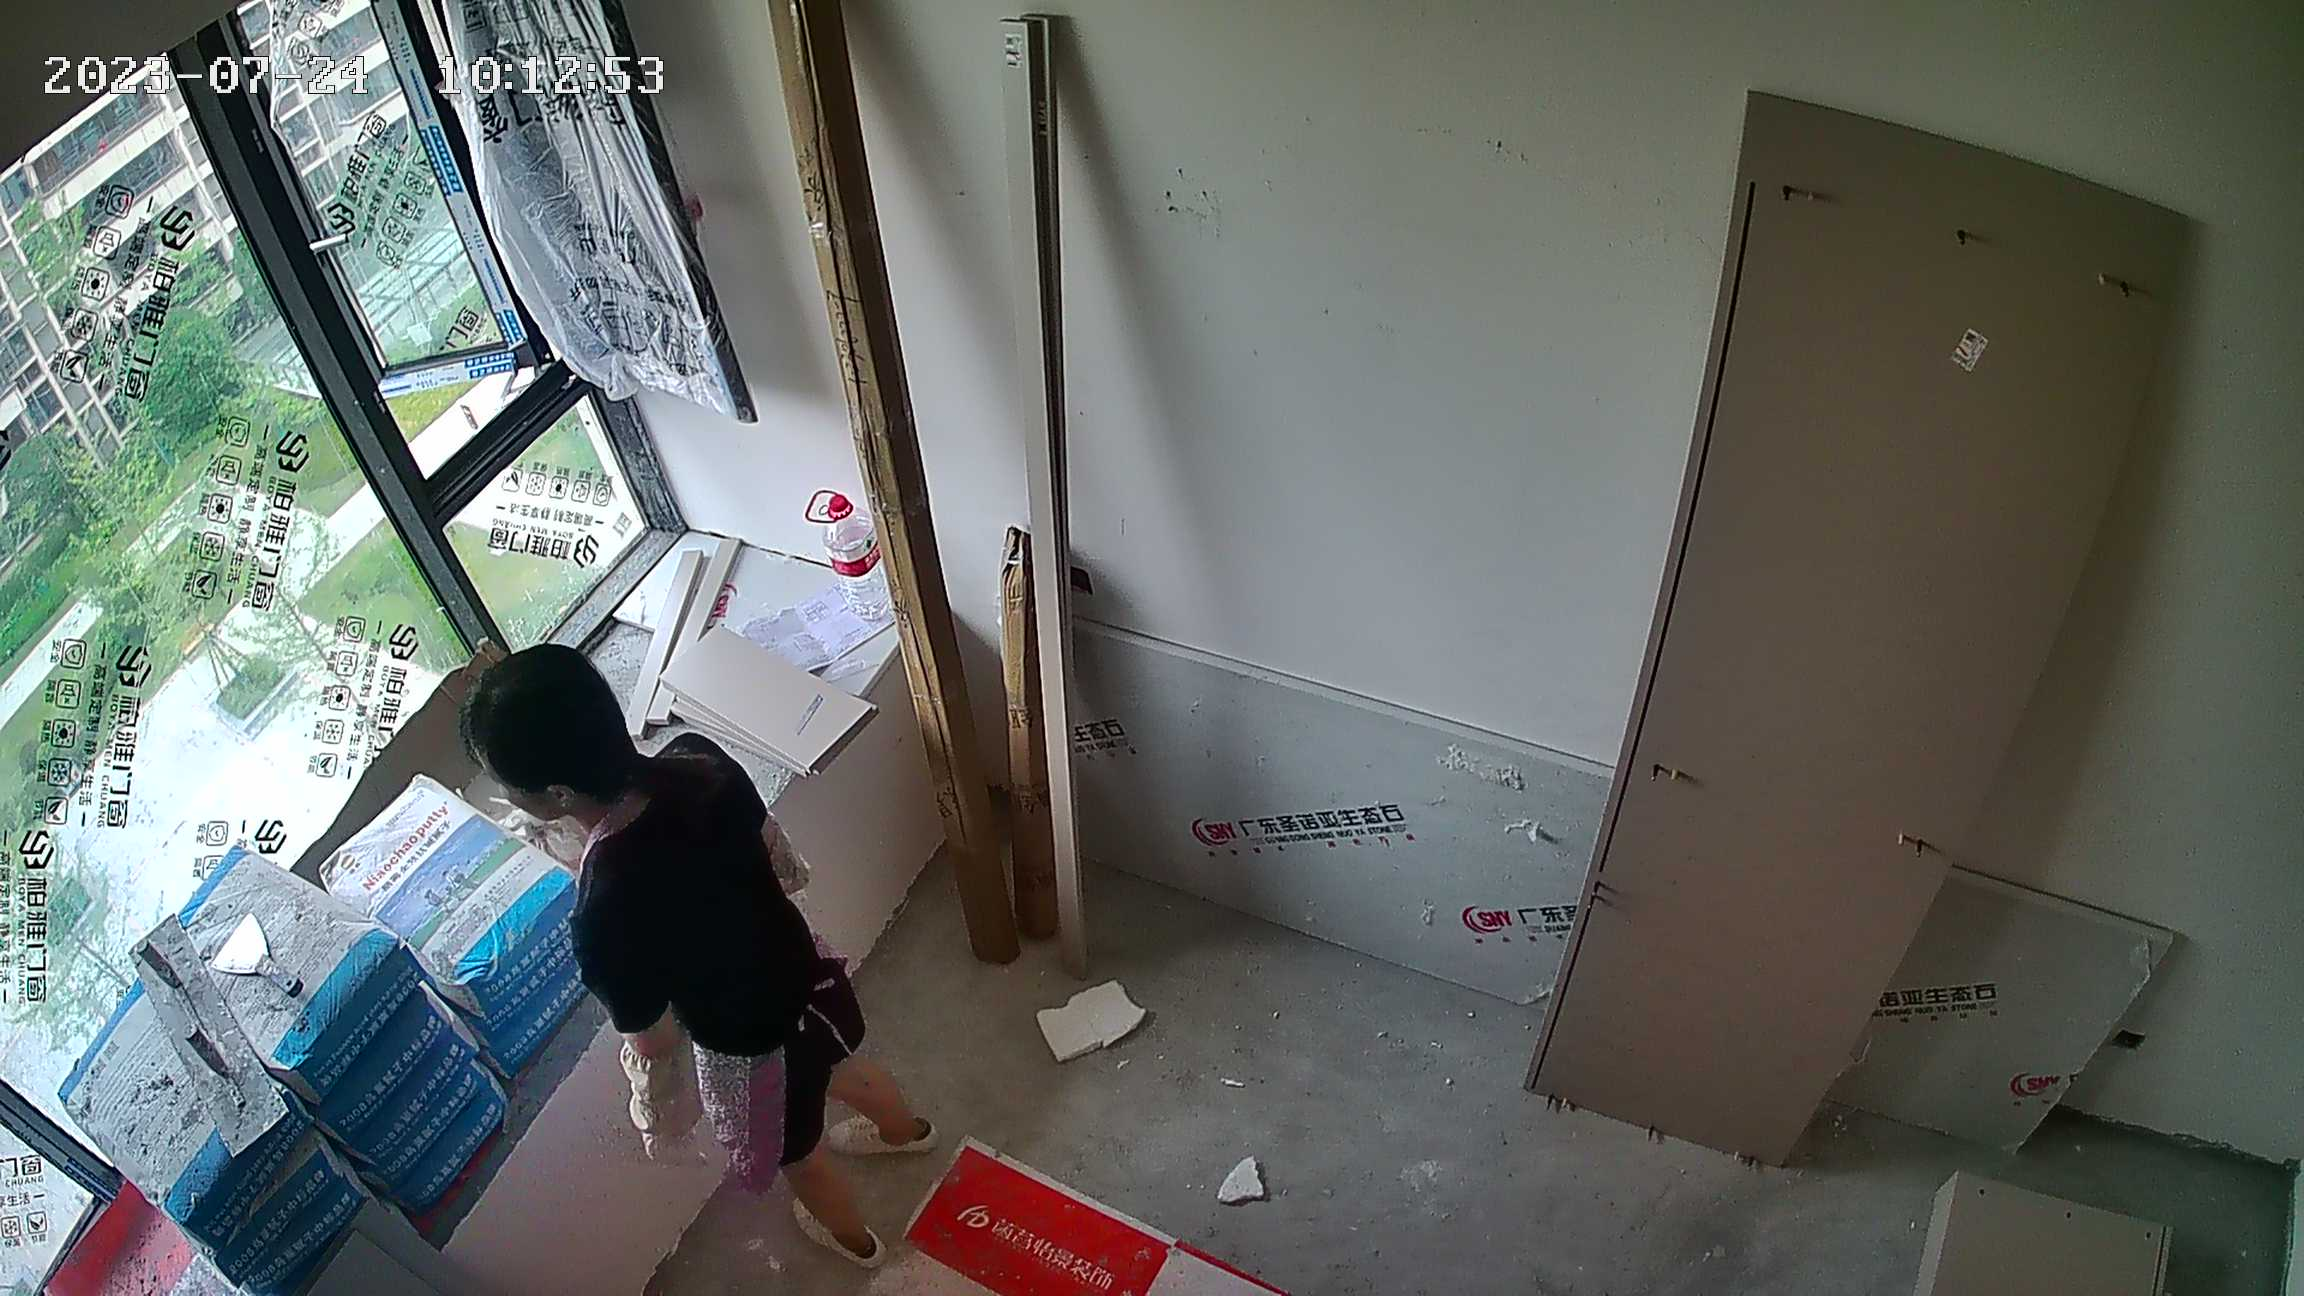people: (463, 646, 942, 1275)
window: (2, 1, 634, 1134)
